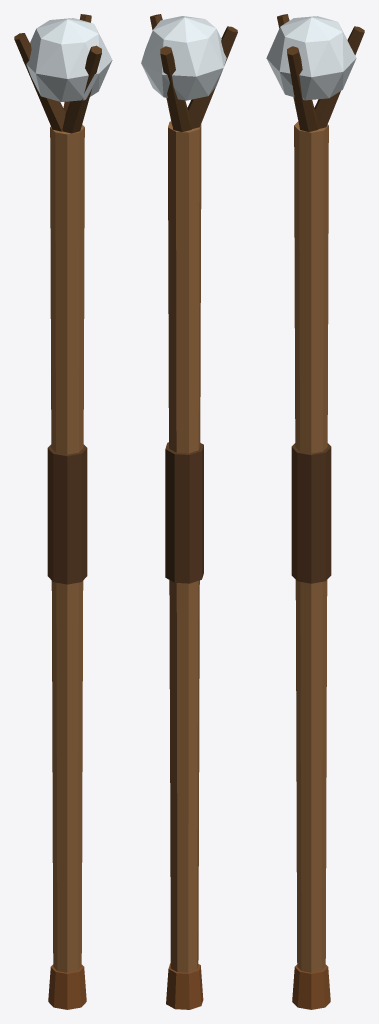
Rendered from held_staff_air.glb.
3 views of the same model, side by side, from view 1: azimuth 90°, elevation 25°; view 2: azimuth 150°, elevation 25°; view 3: azimuth 270°, elevation 25° (orthographic).
Parts seen in each view (by area): view 1: held_staff_air; view 2: held_staff_air; view 3: held_staff_air.
Part boxes in pixels (<box>): held_staff_air: <box>14,14,112,1009</box>; held_staff_air: <box>141,14,237,1009</box>; held_staff_air: <box>266,14,364,1009</box>.
Size of the model in its own units: 0.1484 by 1.69 by 0.1524.
